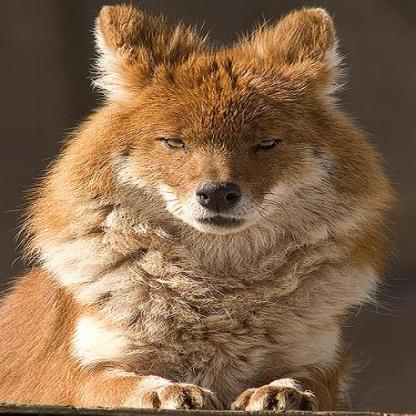dhole: (7, 3, 395, 411)
